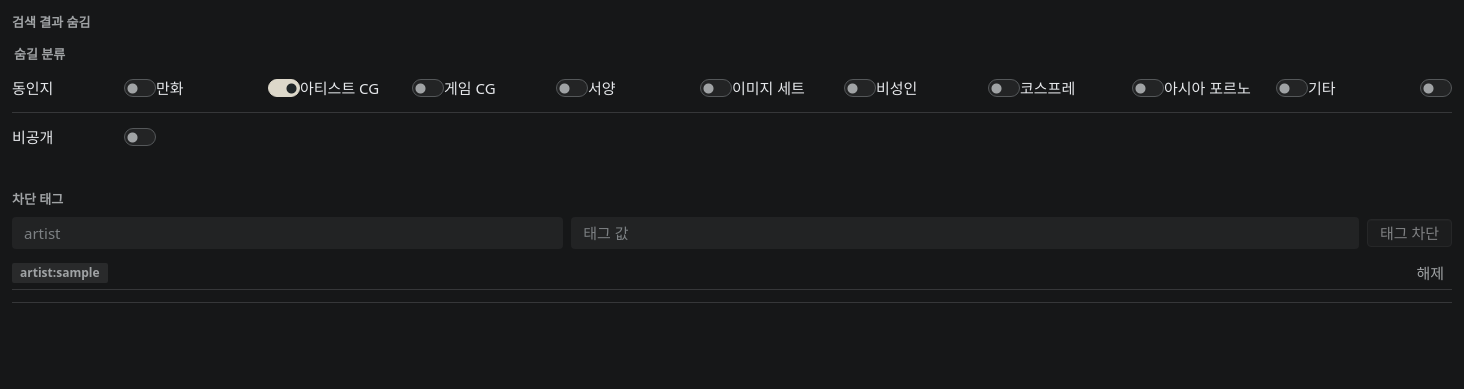
Test: adds and removes exact namespace and value tag pairs
Expected: the text "artist:sample" is shown, left=12, top=263, right=108, bottom=283
Type "group" into the field named "차단 태그 종류" at (288,233), box left=12, top=217, right=563, bottom=249
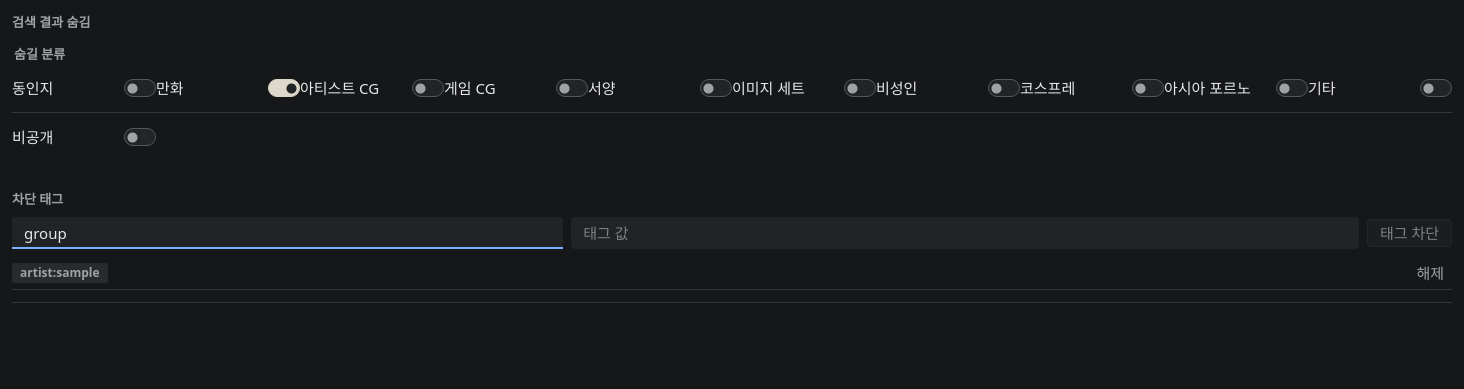
Type "circle" into the field named "차단 태그 값" at (965,233), box left=571, top=217, right=1359, bottom=249
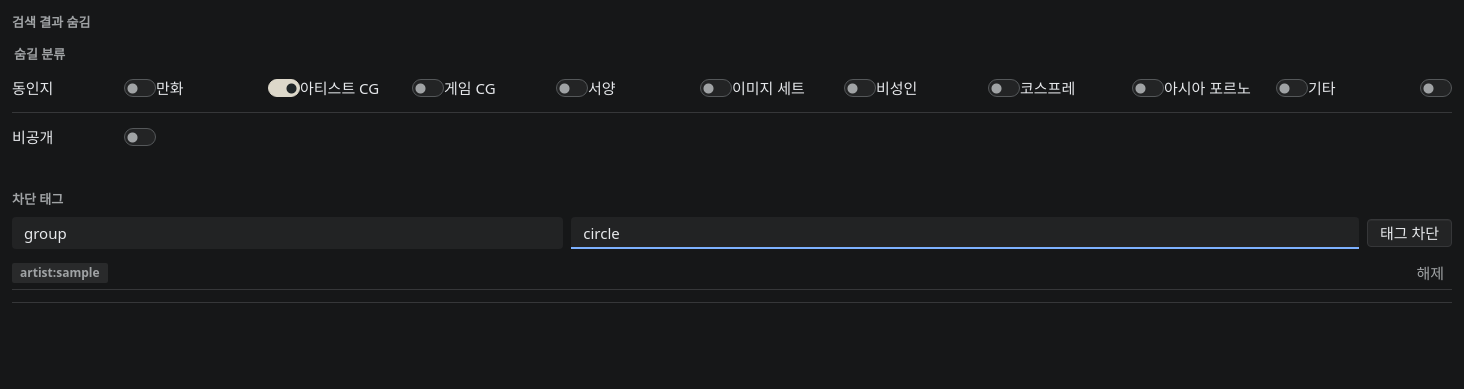
Click the button "태그 차단" at (1409,233), box left=1367, top=219, right=1452, bottom=247
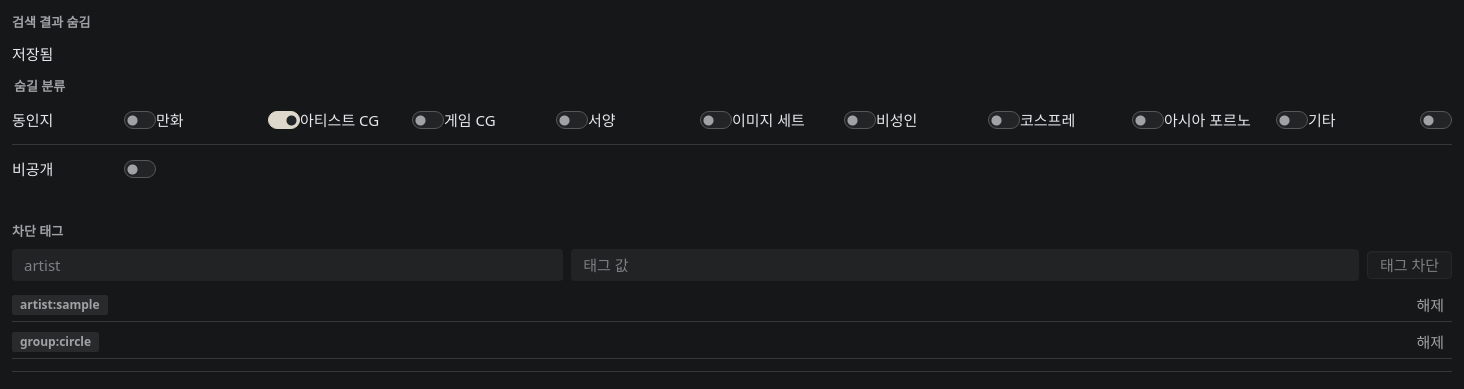
Result: the text "group:circle" is shown at left=12, top=332, right=99, bottom=352
Click the button with aria-label "artist:sample 차단 해제" at (1430,305), box left=1408, top=291, right=1452, bottom=319
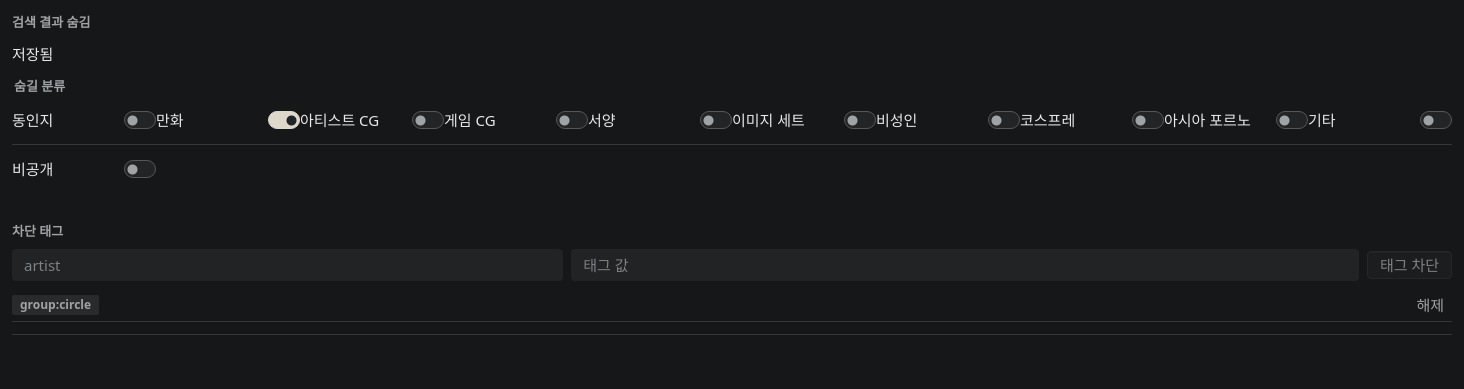
Result: the text "artist:sample" is gone
